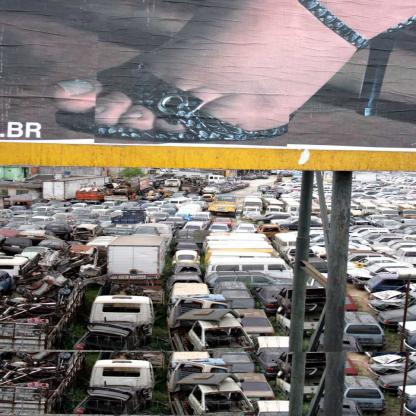Car: (2, 171, 416, 416), (334, 378, 396, 412)
